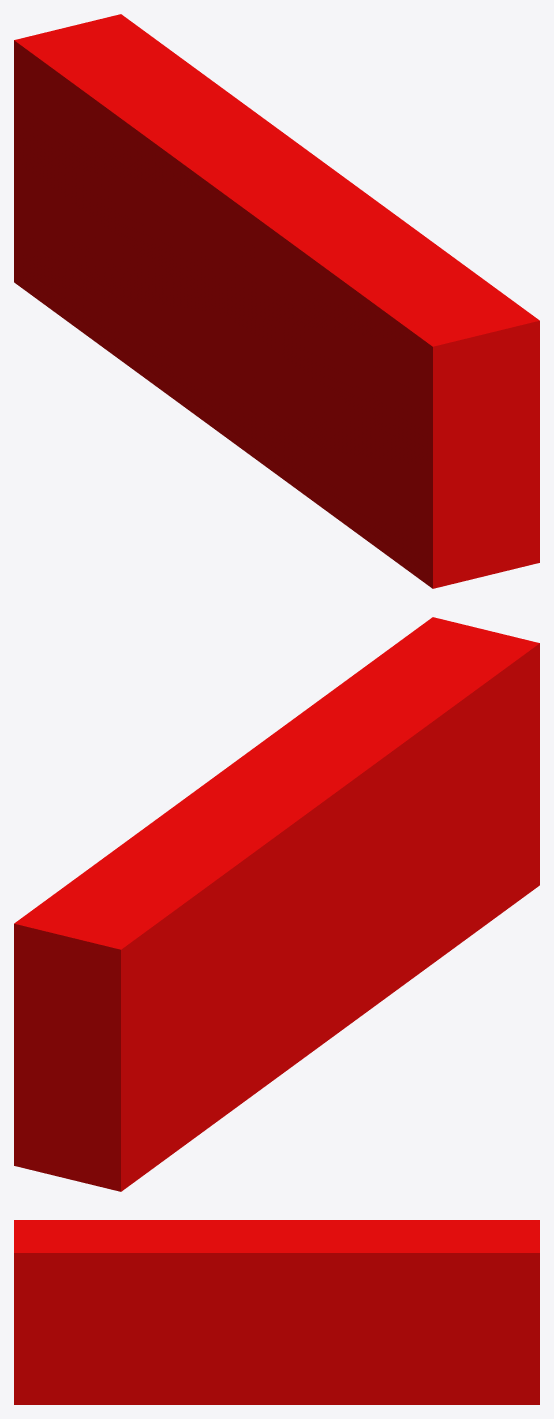
The model's file is humerus_col.dae.
3 views of the same model, one above another, from view 1: azimuth 30°, elevation 25°; view 2: azimuth 150°, elevation 25°; view 3: azimuth 270°, elevation 25° (orthographic). The views are drawn at different scales.
Parts seen in each view (by area): view 1: node0; view 2: node0; view 3: node0.
Boxes of the visible parts, box(x1,y1,x2,y2) form: node0: box(14, 14, 539, 588); node0: box(14, 617, 539, 1191); node0: box(14, 1220, 539, 1404).
Bounding box in the file's own units: 0.0454 × 0.098 × 0.3074.
